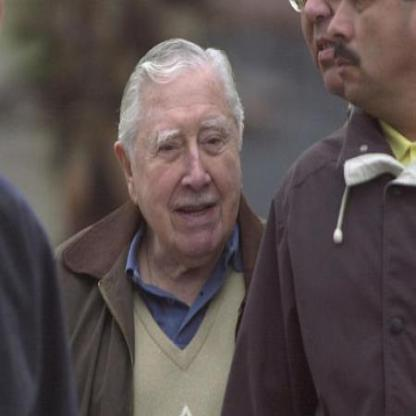face: (131, 48, 248, 260)
